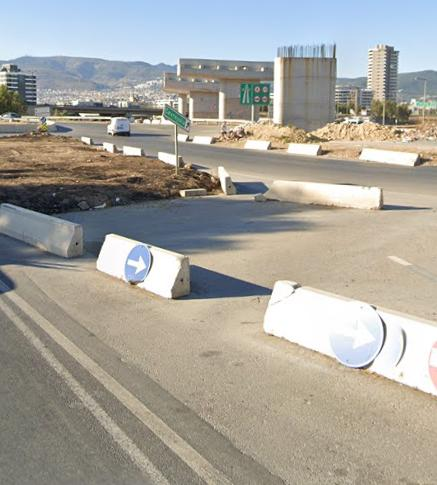turnright: (328, 300, 388, 368), (125, 245, 153, 282)
